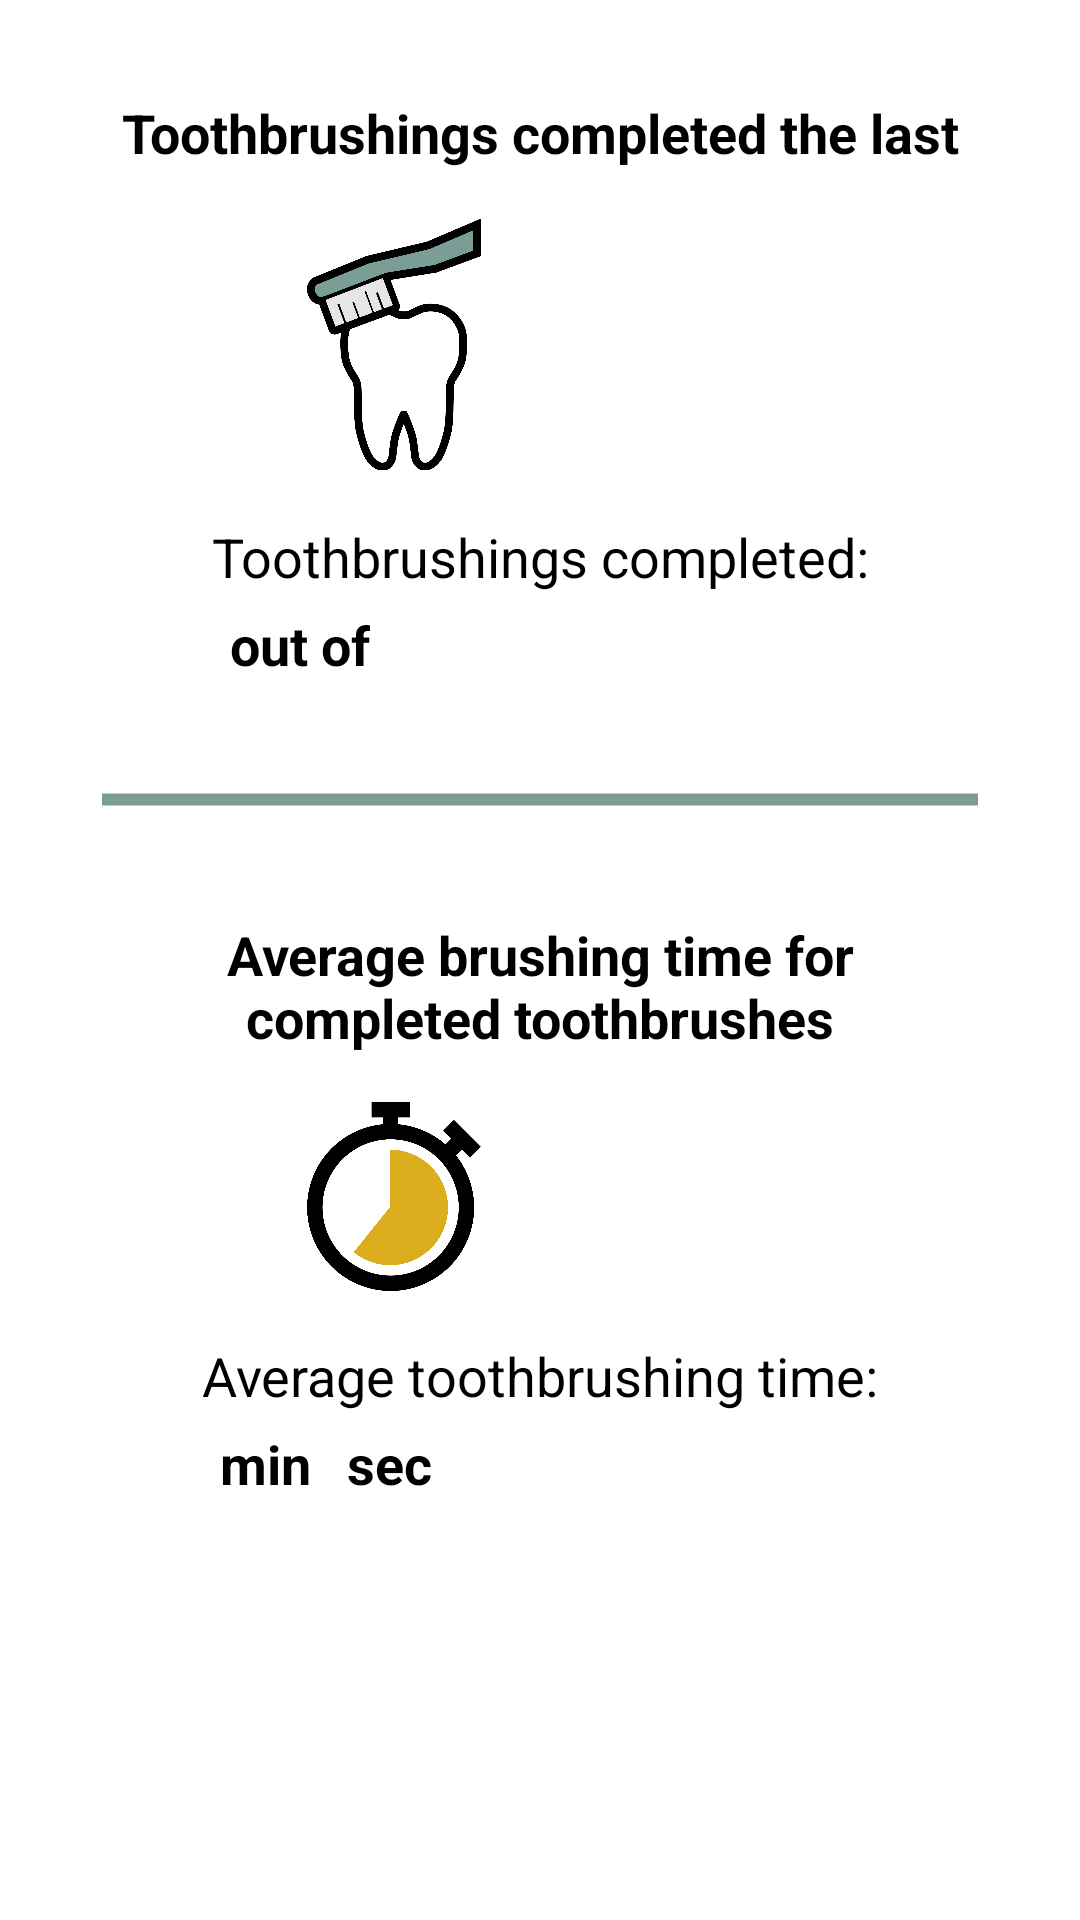

Icons on this 1080 × 1920 Android screen, each with the point to tap as point (x, y):
toothbrush icon: point (394, 344)
